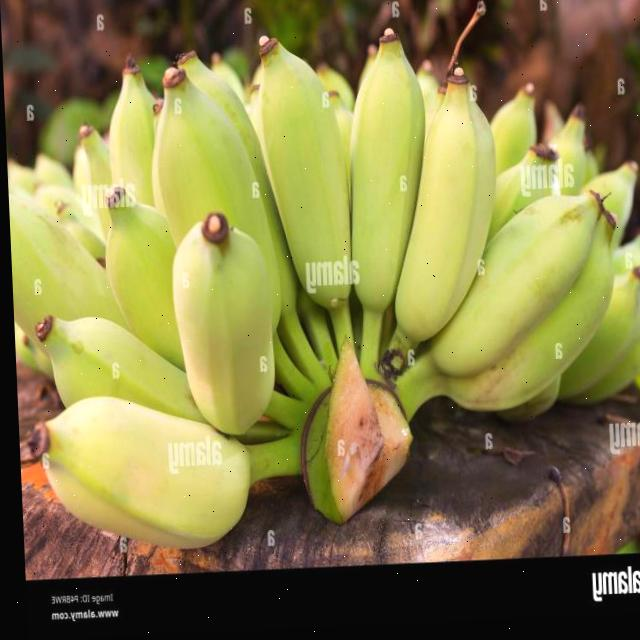banana: (4, 11, 630, 561), (2, 19, 640, 437)
